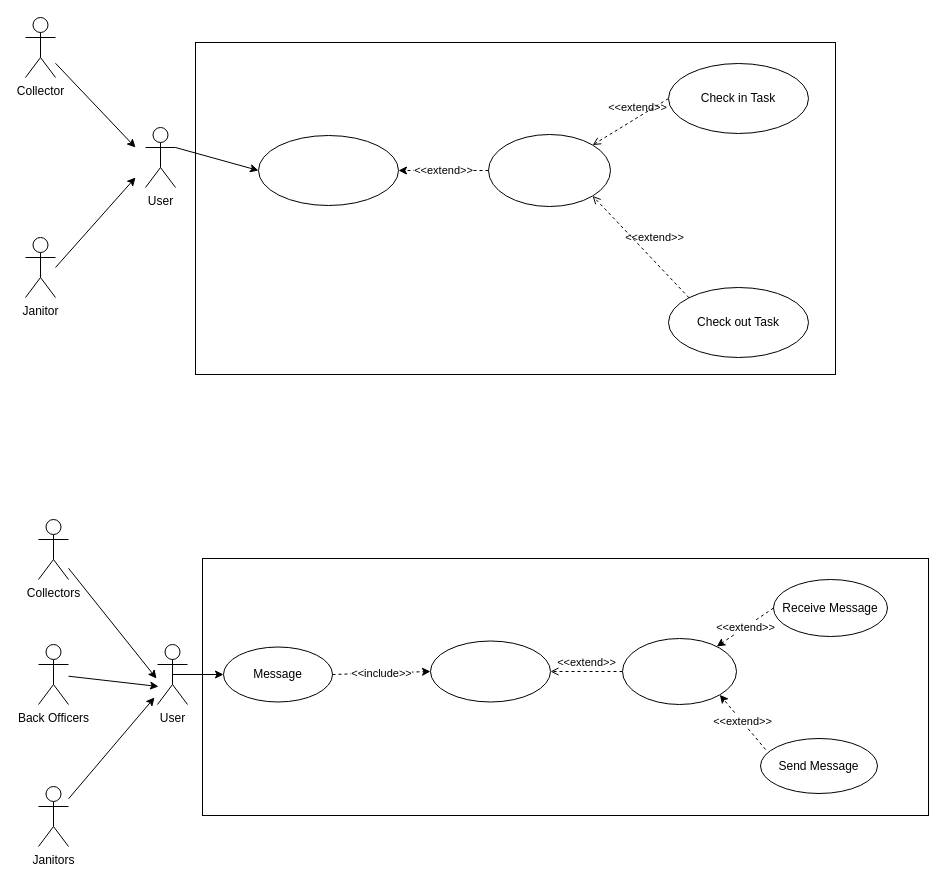
Image size: 946x885. Some labels were removed from this diagram. The shapes that lost their labels are listed below. From the top down, each one's centre as x and y in pixels, then its label:
point 328,170: View Work Calendar (Weekly)
point 549,170: View detail work in a day
point 490,671: Manage chat history
point 679,671: Show chat window
